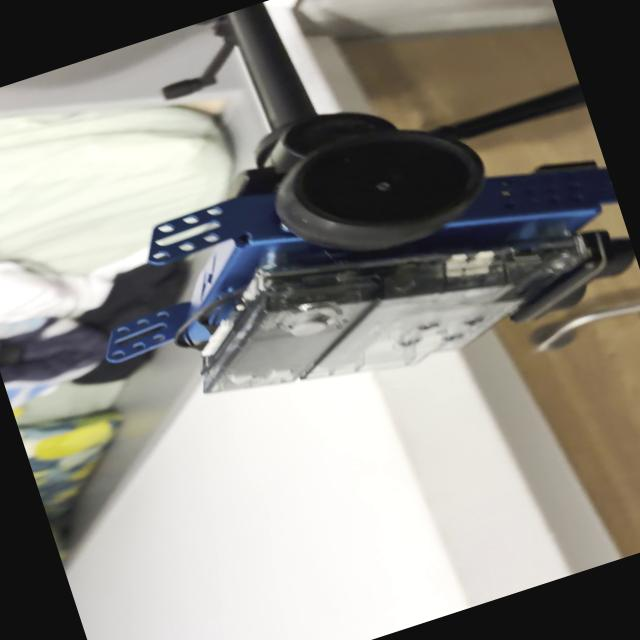mbot-detection: (45, 59, 640, 477)
